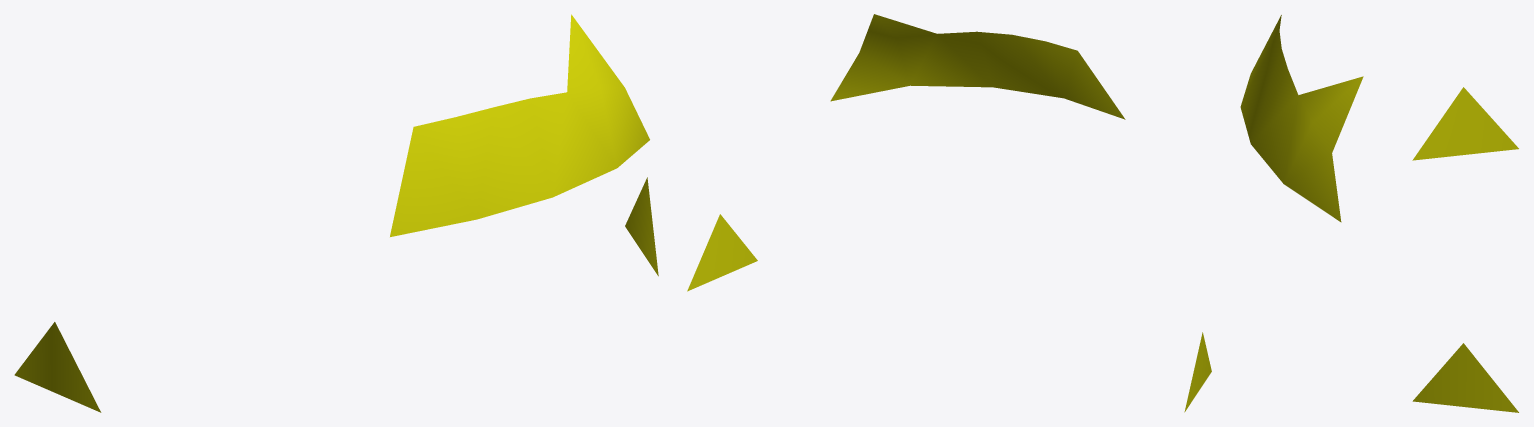
Rendered from Forehead1_0.glb.
3 views of the same model, side by side, from view 1: azimuth 30°, elevation 25°; view 2: azimuth 150°, elevation 25°; view 3: azimuth 270°, elevation 25° (orthographic). The views are drawn at different scales.
Size of the model in its own units: 52.6 by 25.61 by 23.5.
